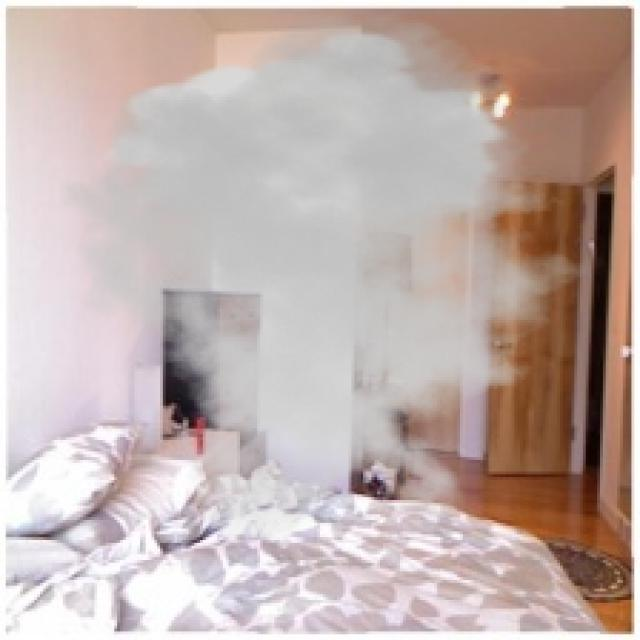smoke: (51, 11, 614, 546)
